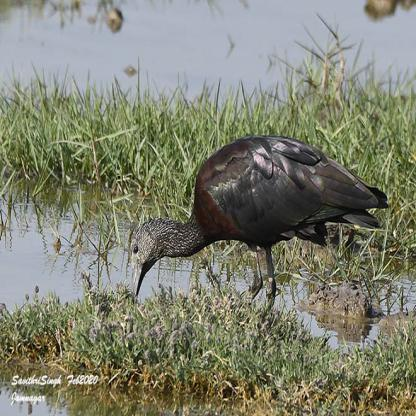Burung: (126, 135, 384, 316)
